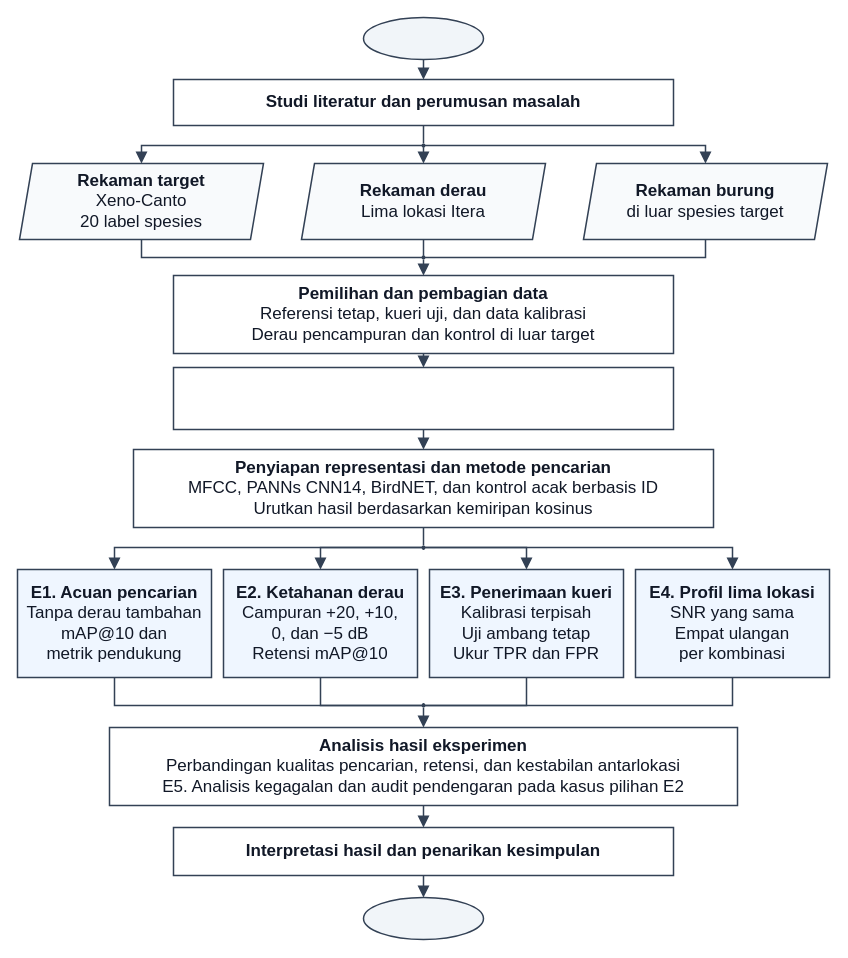
Some shapes in this 848 by 958 pixel diagram are drawn without their labels. The shapes that lost their labels are listed below. From the top down, each one's centre as x and y in pixels, then its label:
point (423, 38): Mulai
point (423, 398): Prapemrosesan audio dan audit (E0) Mono, 32 kHz, 5 detik, dan normalisasi RMS
point (423, 918): Selesai
